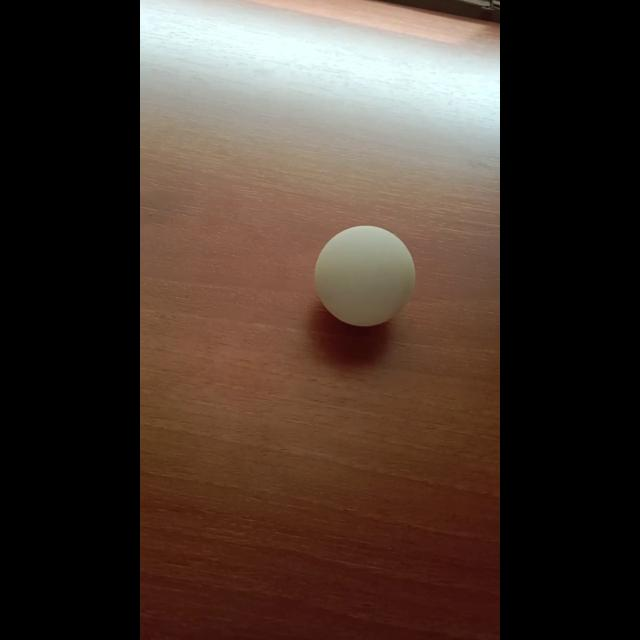white ball: (313, 224, 415, 328)
